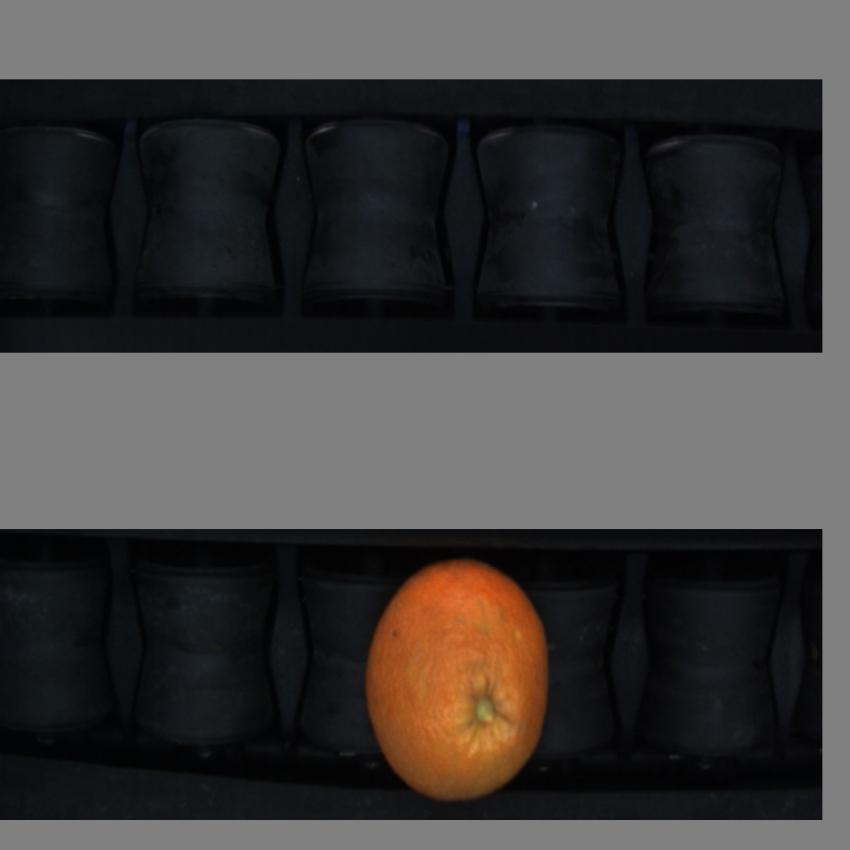Buen estado: (363, 554, 561, 805)
